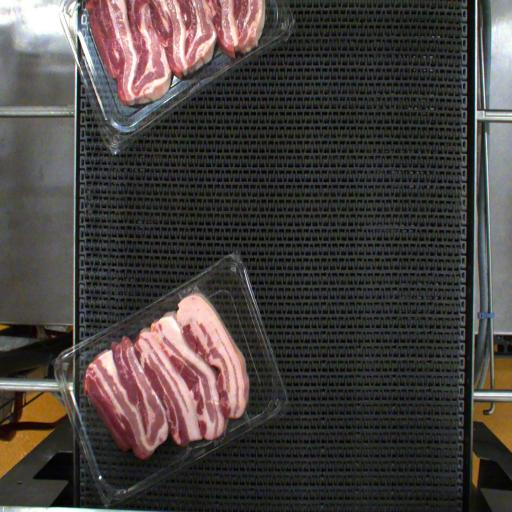packaging-error: (174, 279, 204, 301)
